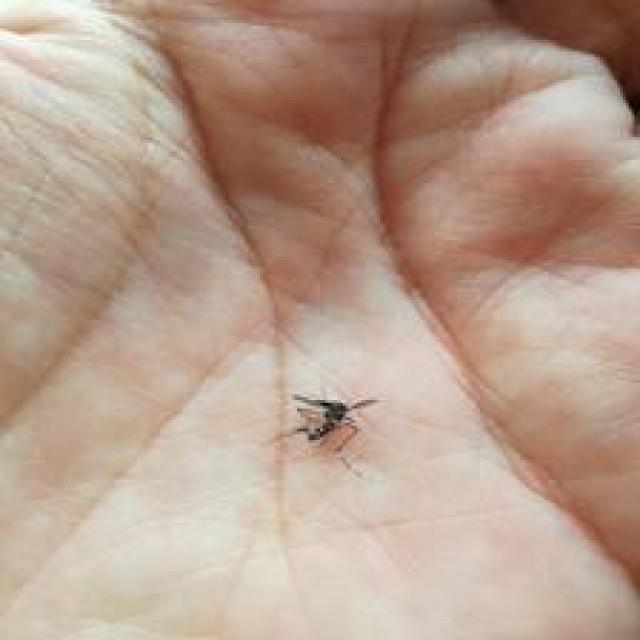Aedes albopictus: (290, 390, 379, 456)
